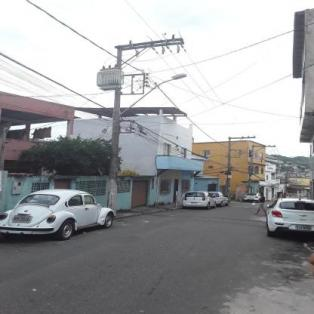Poste: (103, 44, 124, 217)
